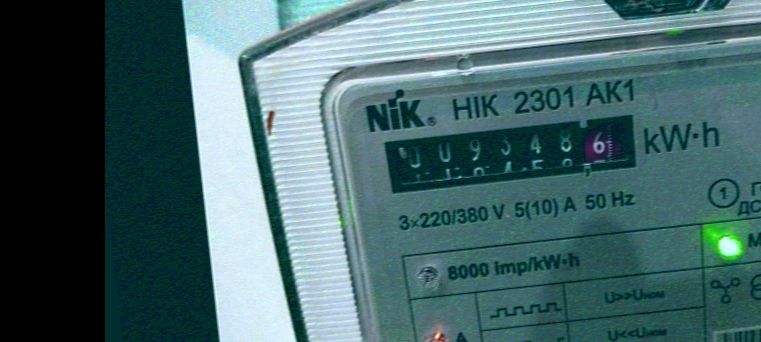0: (407, 144, 423, 171), (437, 140, 454, 165)
3: (498, 132, 514, 160)
4: (527, 129, 544, 158)
6: (590, 129, 610, 158)
8: (557, 127, 575, 156)
9: (467, 137, 485, 164)
screen: (375, 107, 650, 205)
